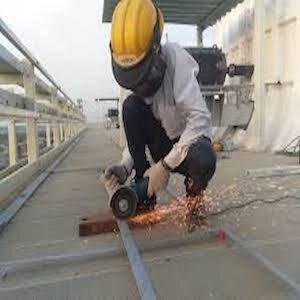heat: (116, 192, 226, 229)
safety: (106, 2, 166, 65)
